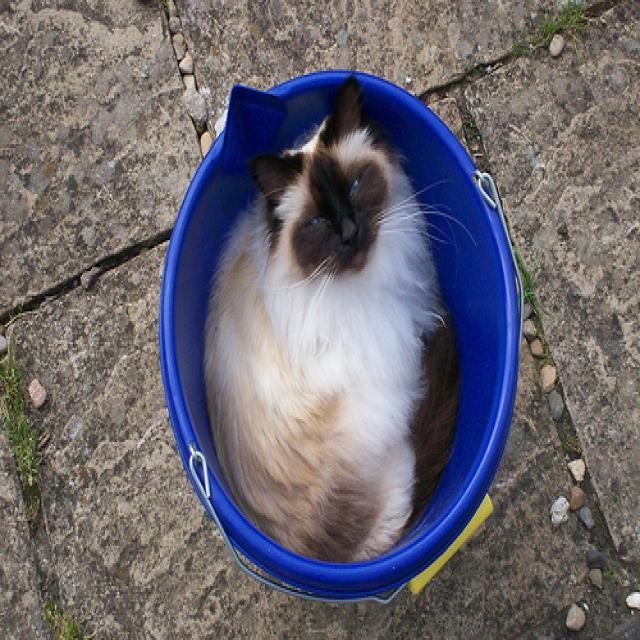Birman: (243, 71, 416, 304)
